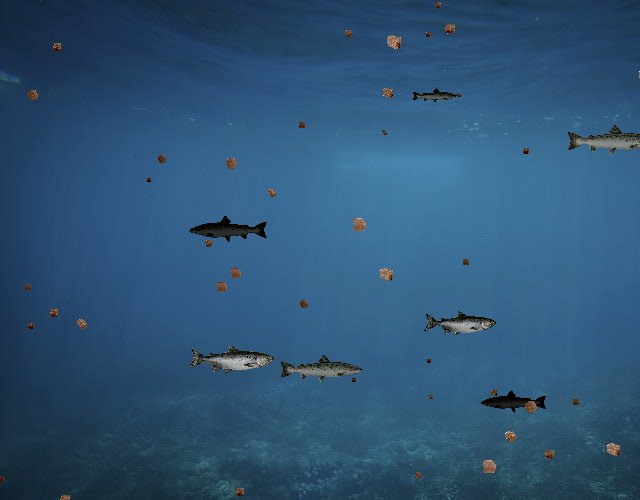Fish: (278, 353, 364, 384), (188, 344, 274, 375), (565, 124, 640, 157), (188, 215, 269, 244), (423, 310, 496, 337), (480, 389, 548, 414), (411, 87, 458, 104)
Pellet: (518, 394, 544, 420), (498, 424, 523, 449), (70, 313, 92, 335), (518, 144, 532, 158), (422, 28, 435, 41)
